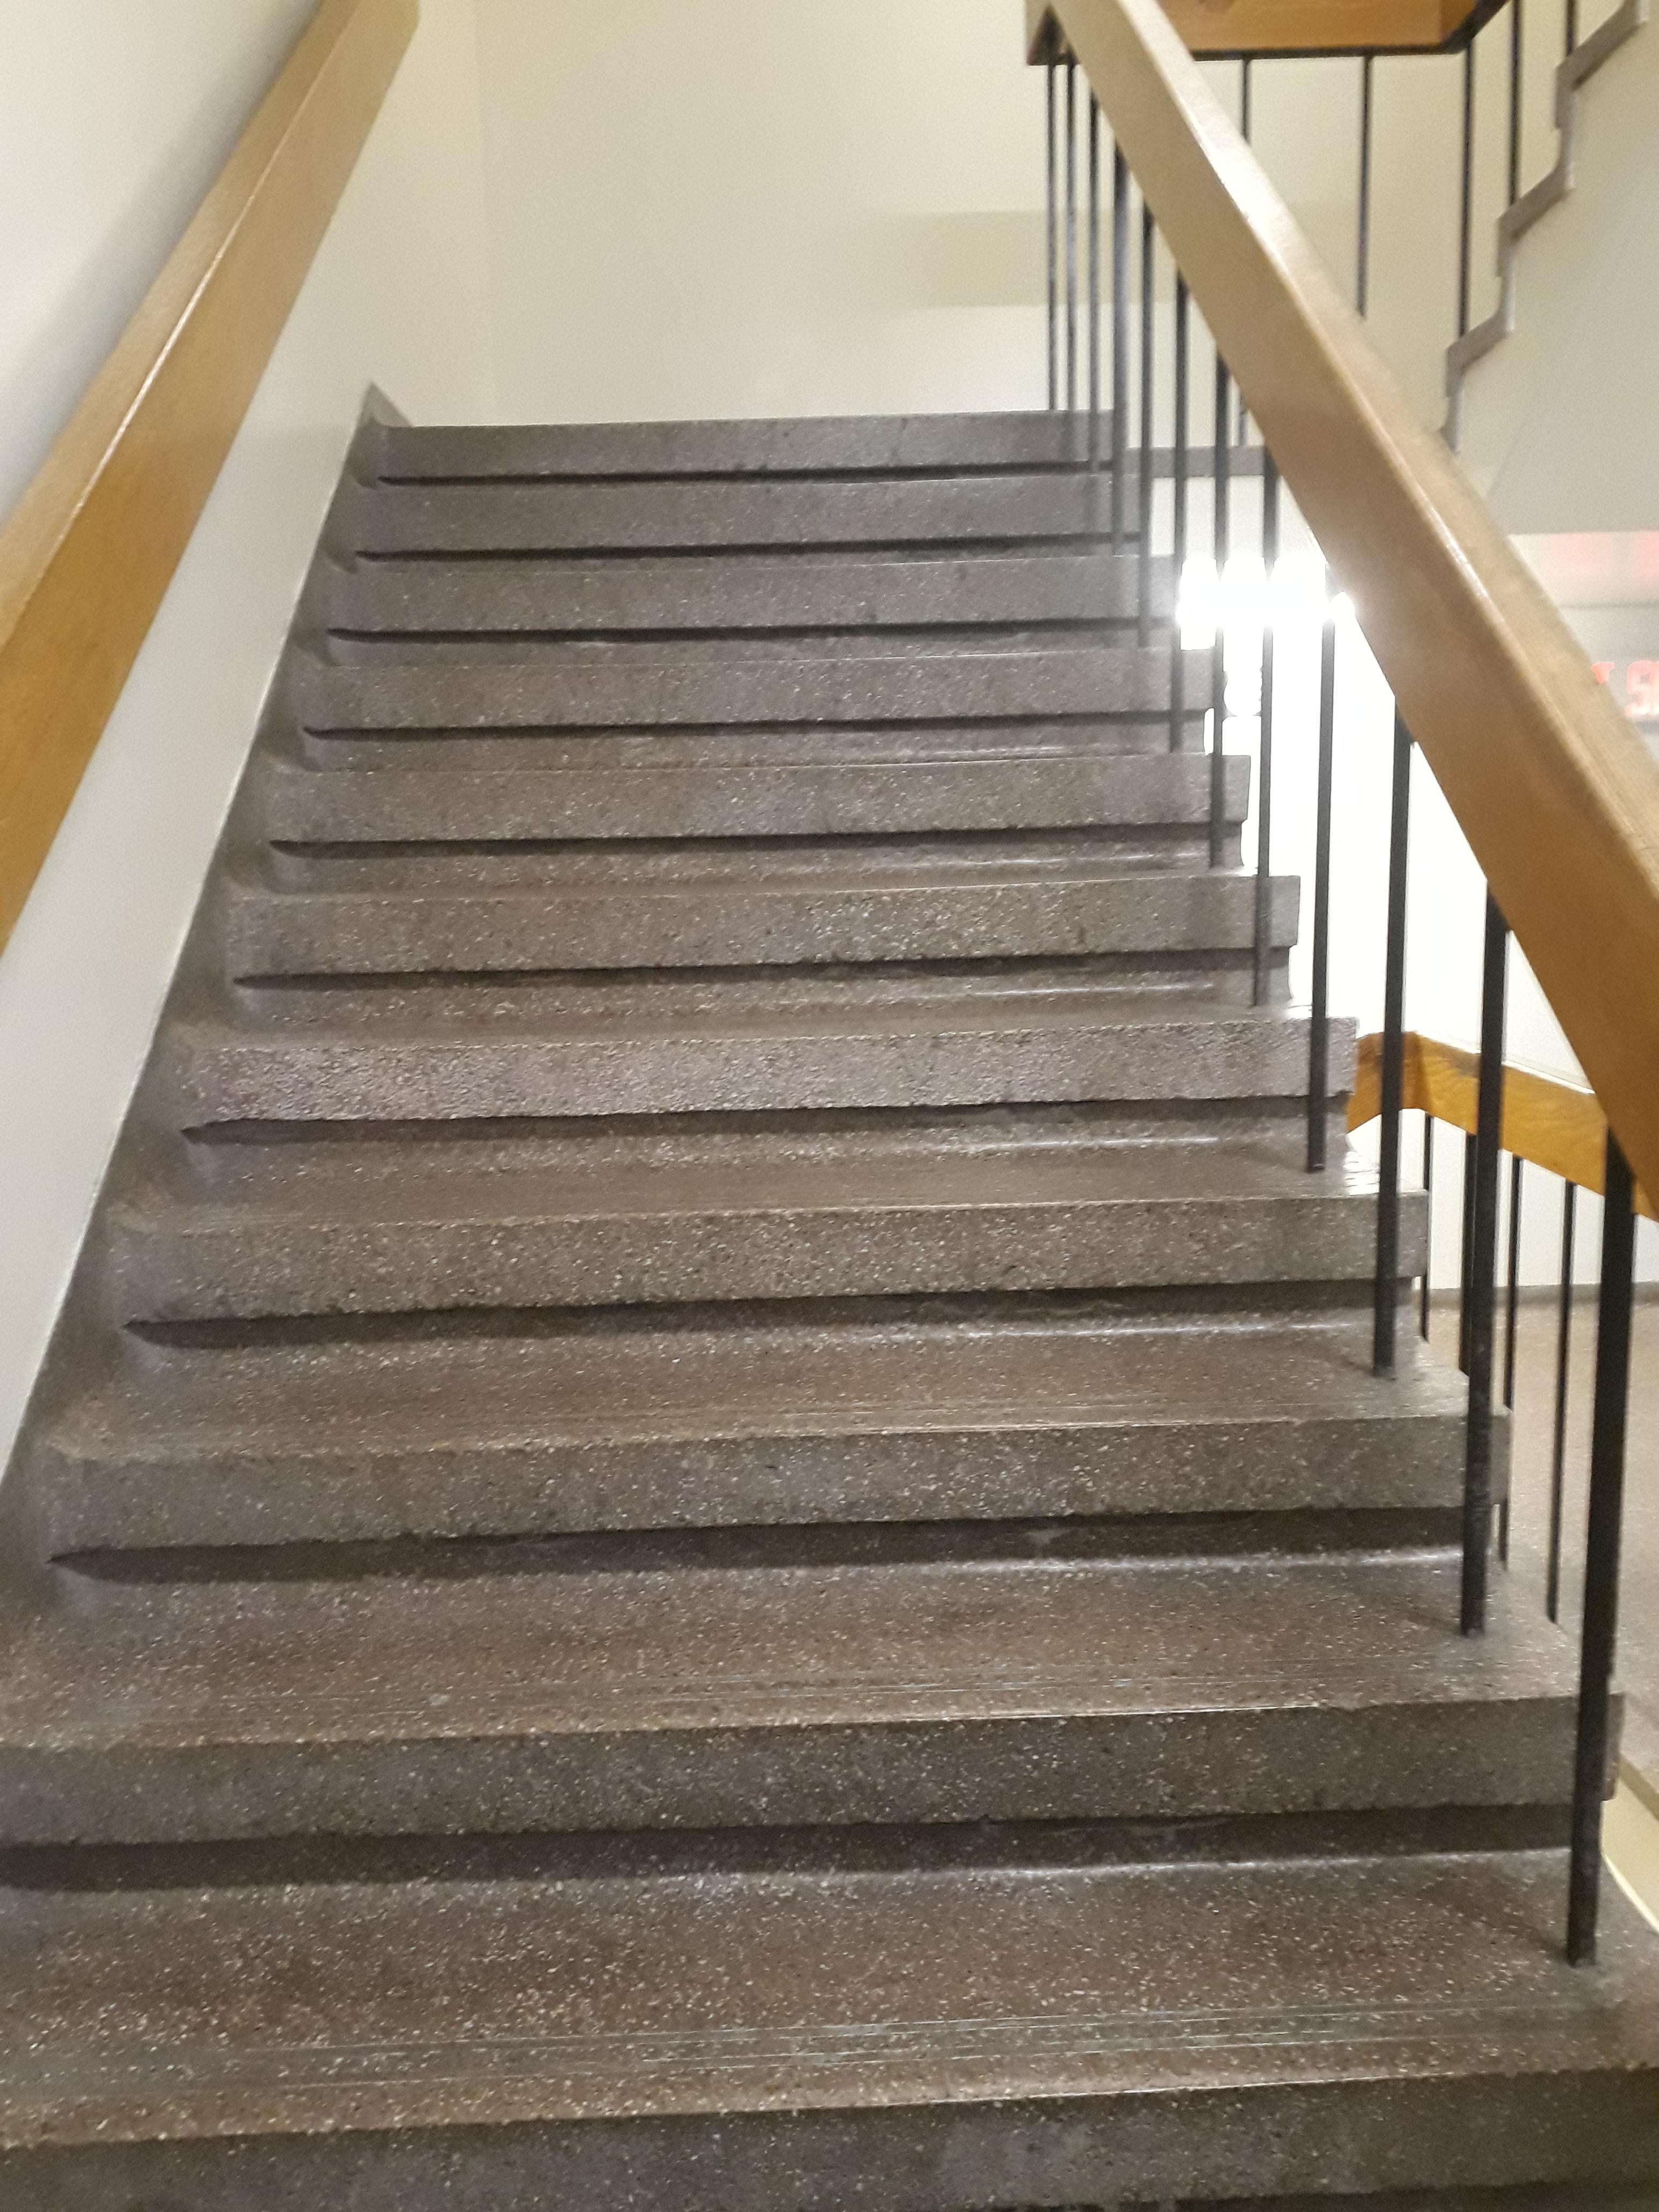stair: (0, 404, 1657, 2207)
